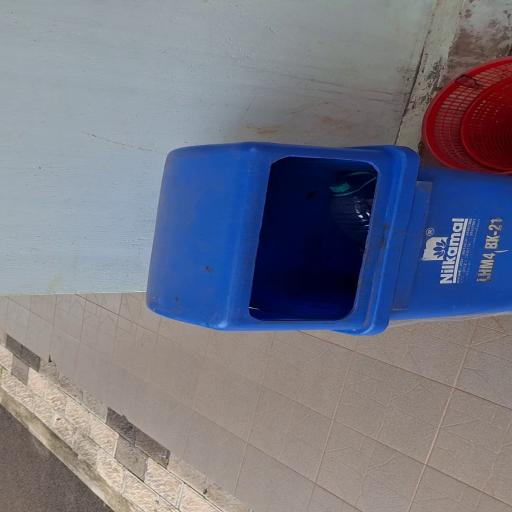Nilkamal-dustbin-detection: (146, 143, 512, 334)
